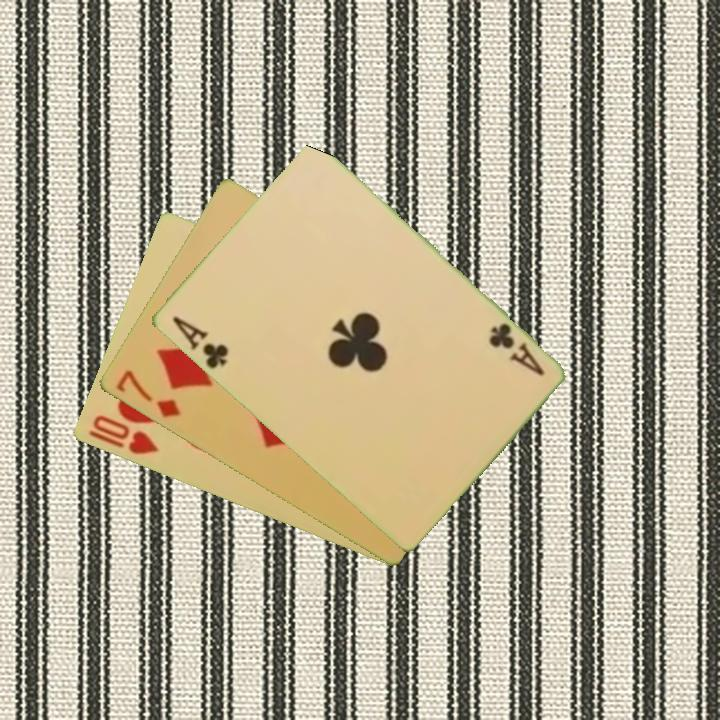10h: (85, 411, 161, 458)
7d: (112, 367, 183, 421)
Ac: (168, 312, 231, 372), (484, 319, 547, 379)
